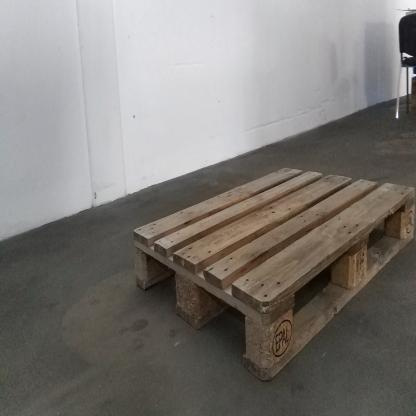BoxFace: (130, 163, 416, 392)
